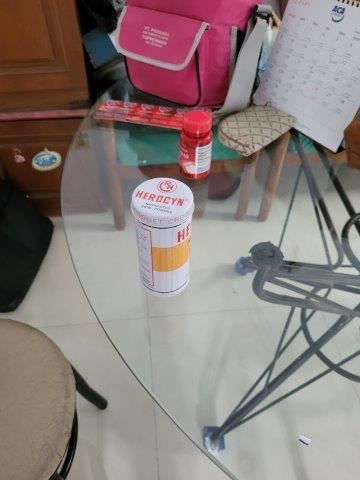kaleng: (129, 178, 194, 294)
